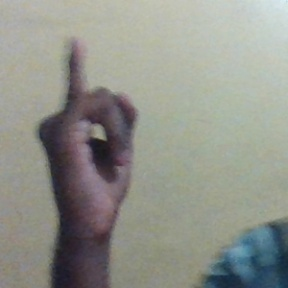I: (38, 38, 139, 232)
